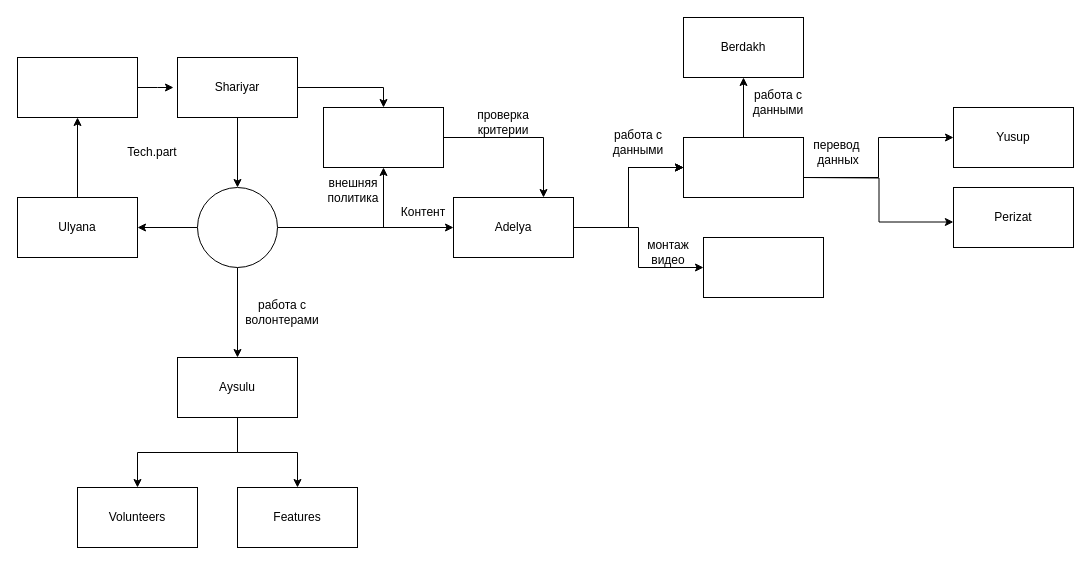
Some shapes in this 1091 by 565 pixel diagram are drawn without their labels. Each missing label, with the centre of its shape:
"Begzad" goes at (763,267).
"Dauranbek" goes at (237,227).
"Faxri" goes at (77,87).
"Nazokat" goes at (383,137).
"Roma" goes at (743,167).
